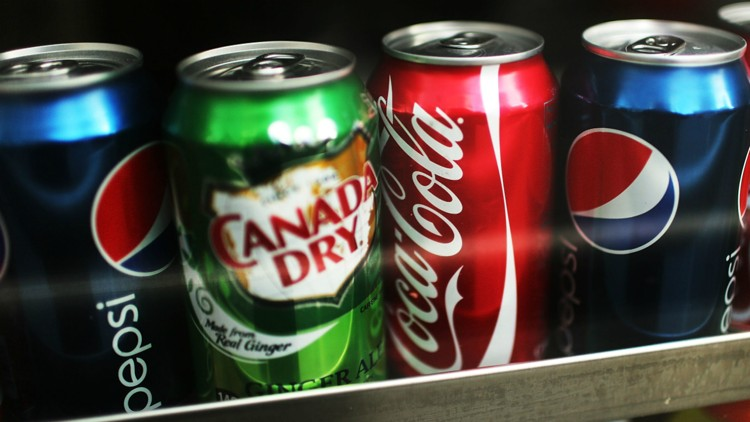Lata: (164, 33, 387, 412)
